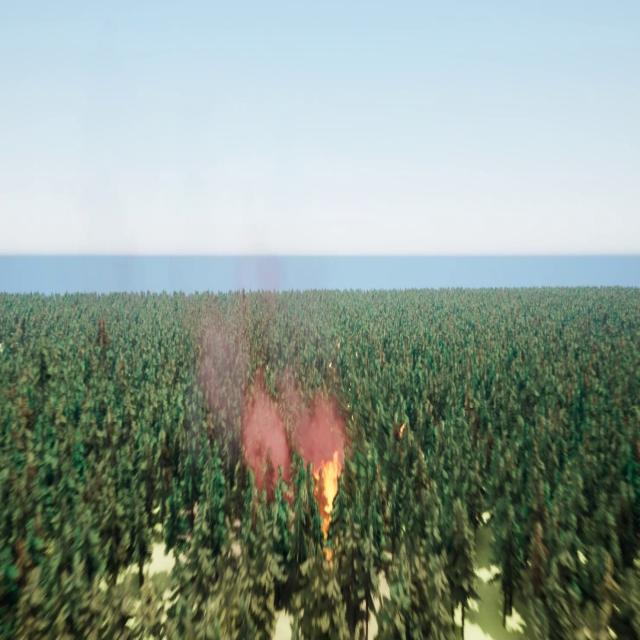fire: (310, 454, 342, 567)
smoke: (196, 278, 349, 492)
